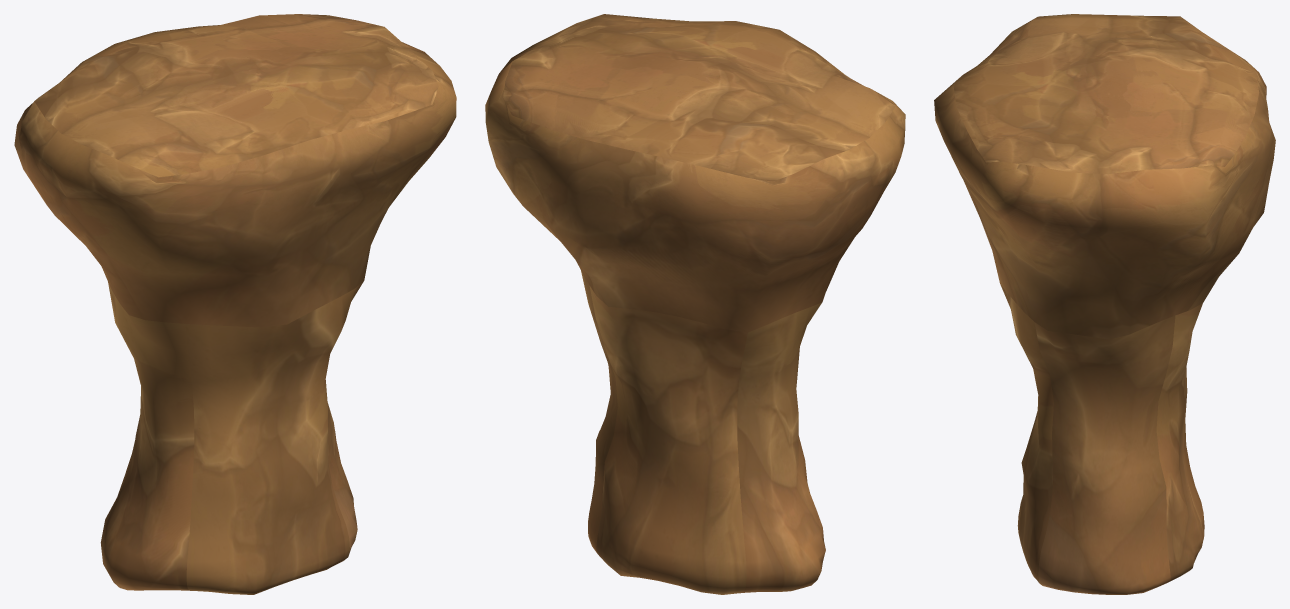
Rendered from Low_islands8.fbx.
The picture shows the model from 3 angles, left to right: view 1: azimuth 30°, elevation 25°; view 2: azimuth 150°, elevation 25°; view 3: azimuth 270°, elevation 25°; orthographic projection. The views are drawn at different scales.
Visible parts, largest first — view 1: Cube.010; view 2: Cube.010; view 3: Cube.010.
Part boxes in pixels (x1,y1,x2,y2): Cube.010: (14,14,456,594); Cube.010: (485,14,905,594); Cube.010: (934,14,1275,594).
Size of the model in its own units: 1118 by 1458 by 886.
Materials: 1 (1 with a texture image).
